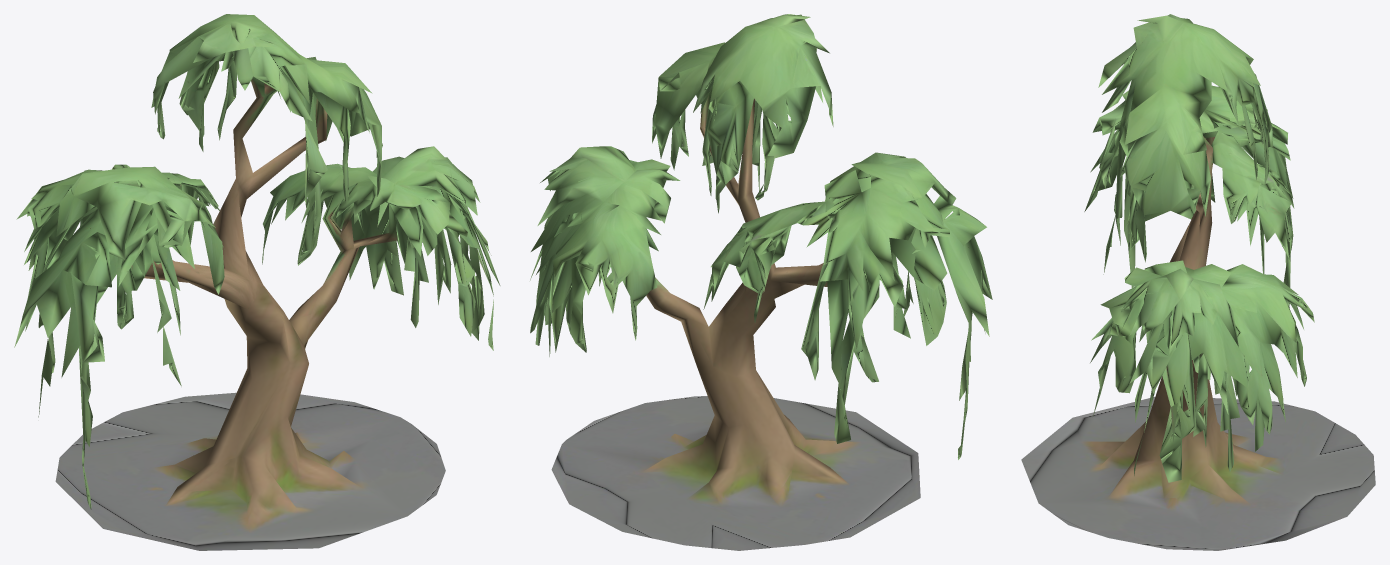
File: tree-willow.glb
3 renders of one model, left to right at view 1: azimuth 30°, elevation 25°; view 2: azimuth 150°, elevation 25°; view 3: azimuth 270°, elevation 25°, orthographic. The views are drawn at different scales.
Parts seen in each view (by area): view 1: tripo_node_af4ada26-4bbe-42da-9059-ce91305bbc4e; view 2: tripo_node_af4ada26-4bbe-42da-9059-ce91305bbc4e; view 3: tripo_node_af4ada26-4bbe-42da-9059-ce91305bbc4e.
Boxes of the visible parts, x1,y1,x2,y2 form: tripo_node_af4ada26-4bbe-42da-9059-ce91305bbc4e: (14, 14, 500, 550); tripo_node_af4ada26-4bbe-42da-9059-ce91305bbc4e: (530, 14, 992, 550); tripo_node_af4ada26-4bbe-42da-9059-ce91305bbc4e: (1021, 14, 1375, 550).
Size of the model in its own units: 0.9842 by 0.9349 by 0.6775.
1 material, 1 textured.
